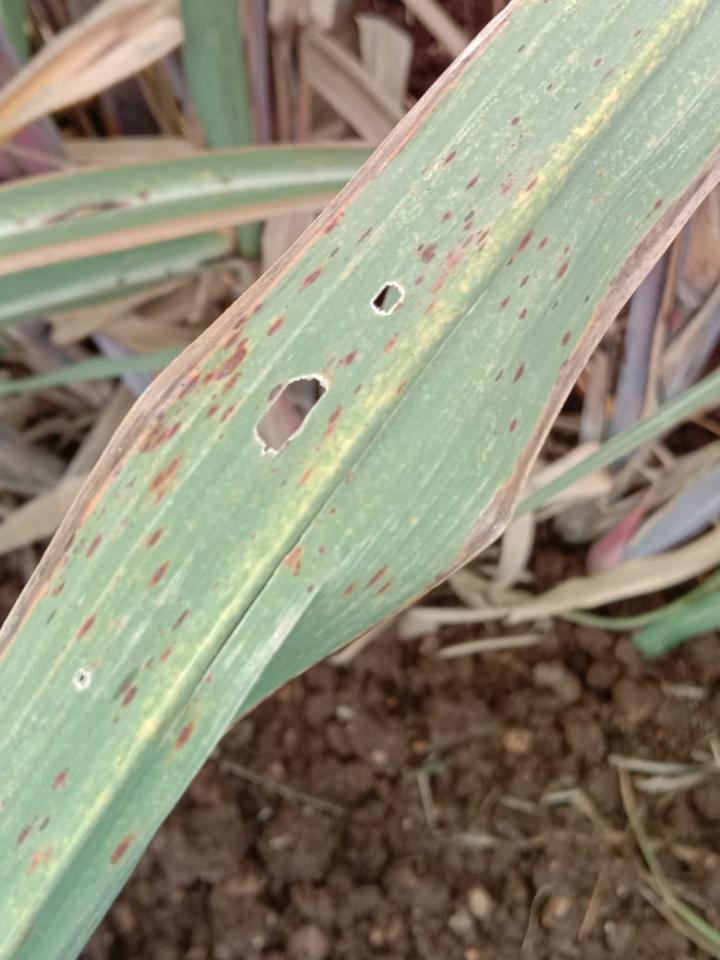Rust: (428, 227, 492, 295), (203, 338, 249, 383), (140, 409, 181, 453), (149, 456, 180, 493), (506, 230, 534, 266), (26, 846, 52, 877), (111, 834, 133, 864), (324, 404, 343, 438), (177, 371, 200, 399), (298, 267, 322, 293), (283, 546, 303, 576), (364, 564, 388, 589), (176, 721, 195, 749), (149, 561, 169, 586), (335, 349, 358, 369), (76, 615, 95, 639), (86, 533, 103, 558), (222, 373, 241, 393), (225, 327, 243, 348), (172, 609, 189, 631), (121, 685, 137, 708), (266, 317, 284, 337), (420, 243, 437, 264), (52, 768, 68, 789), (384, 331, 398, 354), (500, 173, 514, 195), (221, 403, 237, 421), (267, 383, 283, 401), (554, 261, 569, 280), (148, 528, 163, 547), (18, 825, 32, 845), (324, 218, 341, 234), (357, 227, 374, 243), (297, 469, 311, 488), (513, 362, 525, 383), (233, 314, 249, 329), (50, 582, 66, 597), (118, 679, 132, 696), (525, 176, 539, 192), (558, 244, 570, 262), (45, 608, 57, 626), (466, 176, 480, 191), (498, 295, 511, 311), (161, 645, 173, 661), (328, 245, 341, 259), (343, 581, 356, 595), (39, 817, 51, 832), (560, 331, 571, 347), (155, 489, 167, 503), (144, 655, 155, 670), (207, 405, 219, 418), (653, 196, 664, 210), (538, 236, 549, 250), (445, 151, 457, 163), (519, 274, 530, 287), (509, 418, 518, 433), (633, 27, 645, 38), (463, 210, 474, 222), (441, 210, 451, 223), (397, 381, 407, 394), (414, 275, 425, 286), (518, 307, 528, 319), (423, 303, 435, 313), (494, 370, 503, 382), (592, 193, 601, 205), (252, 304, 264, 313), (611, 2, 621, 12), (463, 221, 473, 231), (345, 472, 353, 484), (592, 59, 602, 68), (354, 383, 362, 394), (511, 117, 520, 126), (317, 546, 326, 555), (517, 44, 525, 53), (574, 102, 582, 111), (596, 170, 605, 178), (416, 243, 424, 252), (583, 294, 590, 304), (552, 300, 559, 310), (510, 140, 518, 148), (205, 674, 212, 683), (112, 715, 119, 724), (280, 479, 287, 487), (330, 508, 337, 516), (250, 533, 257, 540), (308, 583, 314, 591), (546, 84, 552, 91), (211, 394, 218, 400), (337, 212, 345, 217), (315, 445, 321, 451), (270, 468, 277, 473), (417, 301, 423, 306), (518, 134, 524, 138), (409, 295, 414, 299), (535, 275, 539, 279)
Yellow: (0, 0, 525, 659), (332, 142, 719, 652)
